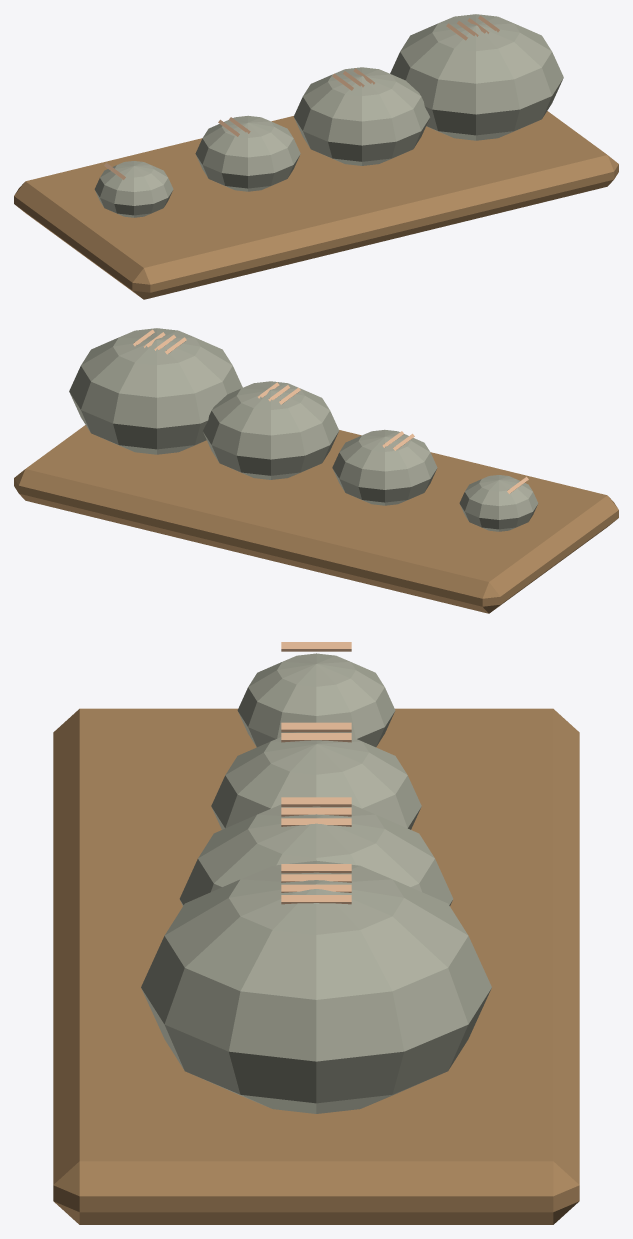
3 renders of one model, top to bottom at view 1: azimuth 30°, elevation 25°; view 2: azimuth 150°, elevation 25°; view 3: azimuth 270°, elevation 25°, orthographic. The views are drawn at different scales.
Visible parts, largest first — view 1: BA-0033 batched; view 2: BA-0033 batched; view 3: BA-0033 batched.
Part boxes in pixels (bbox=[...]): BA-0033 batched: bbox=[14, 14, 618, 299]; BA-0033 batched: bbox=[14, 328, 618, 613]; BA-0033 batched: bbox=[53, 642, 579, 1224].
Bounding box in the file's own units: 0.64 × 0.171 × 0.3.
